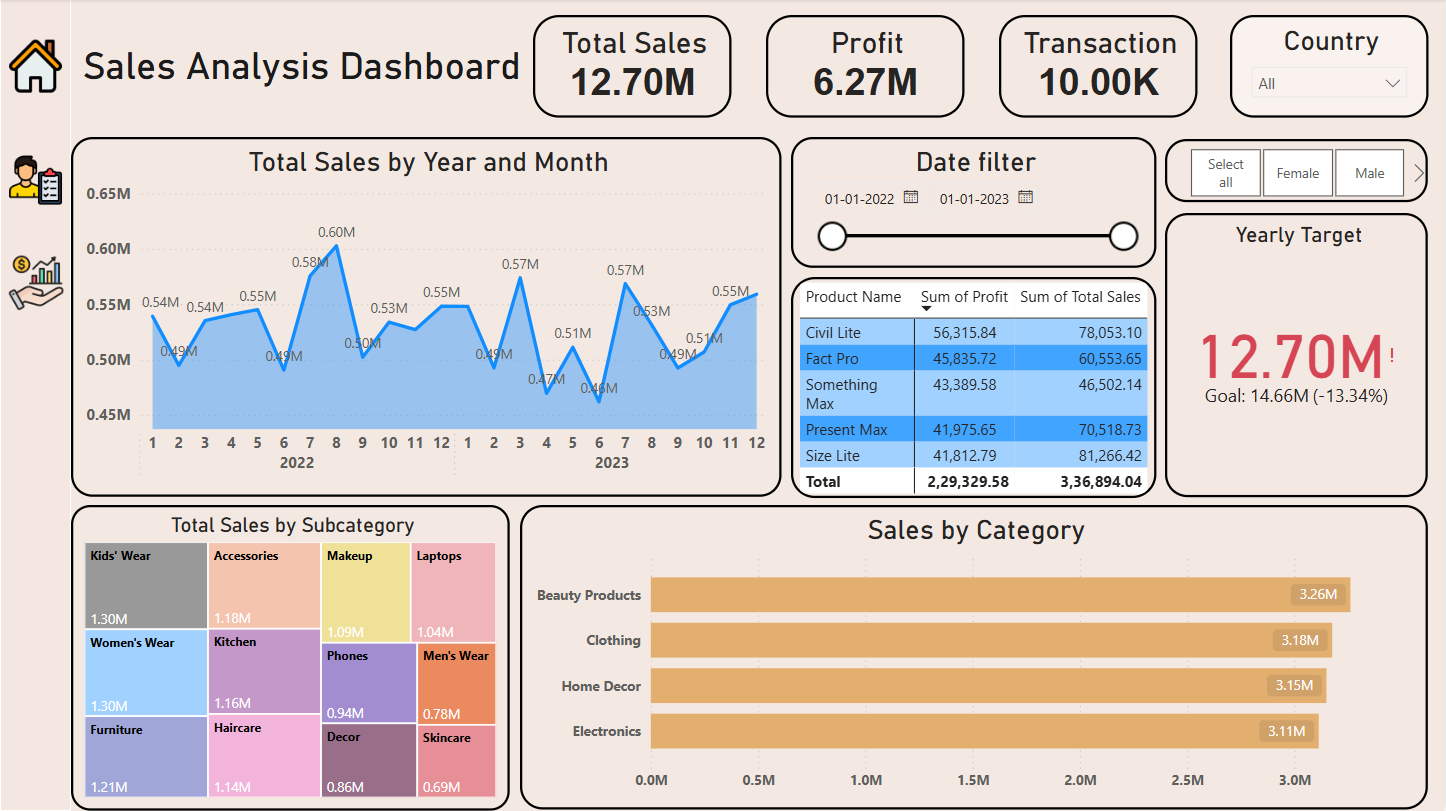

The dashboard page shown, as its layout file describes it:
{"tool":"powerbi","page":{"name":"Sales Overview","canvas":[1280,720],"ordinal":0},"visuals":[{"type":"shape","box":[0,0,63.2,719.8],"z":0},{"type":"image","box":[0,31.1,63.2,57.4],"z":1000},{"type":"image","box":[0,221.8,63.2,60.3],"z":2000},{"type":"image","box":[0,132.3,63.2,57.4],"z":3000},{"type":"textbox","box":[67.1,36,400.7,44.7],"z":4000},{"type":"card","title":"Total Sales","fields":{"Values":["MeasureTable.Total Sales"]},"box":[472.7,14.6,176,91.4],"z":5000},{"type":"stackedAreaChart","title":"Total Sales by Year and Month","fields":{"Category":["SalesTransaction.Year.Variation.Date Hierarchy.Year","SalesTransaction.Month"],"Y":["Sum(SalesTransaction.Total Sales)"]},"box":[63.2,122.6,630.3,319],"z":6000},{"type":"slicer","title":"Country","fields":{"Values":["CustomerDetails.Country"]},"box":[1090.3,14.6,176,91.4],"z":7000},{"type":"slicer","title":"Date filter","fields":{"Values":["SalesTransaction.Year"]},"box":[701.3,122.6,323.9,115.7],"z":8000},{"type":"treemap","title":"Total Sales by Subcategory","fields":{"Values":["Sum(SalesTransaction.Total Sales)"],"Group":["ProductDetails.Subcategory"]},"box":[63.2,448.4,389.1,271.4],"z":9000},{"type":"pivotTable","fields":{"Rows":["ProductDetails.Product Name"],"Values":["Sum(SalesTransaction.Profit)","Sum(SalesTransaction.Total Sales)"]},"box":[701.3,246.1,323.9,195.5],"z":10000},{"type":"card","title":"Profit","fields":{"Values":["Sum(SalesTransaction.Profit)"]},"box":[678.9,14.6,176,91.4],"z":11000},{"type":"card","title":"Transaction","fields":{"Values":["Count(SalesTransaction.Transaction ID)"]},"box":[886.1,14.6,176,91.4],"z":12000},{"type":"clusteredBarChart","title":"Sales by Category","fields":{"Category":["ProductDetails.Category"],"Y":["Sum(SalesTransaction.Total Sales)"]},"box":[461,448.4,805.3,270.4],"z":13000},{"type":"slicer","fields":{"Values":["CustomerDetails.Gender"]},"box":[1032.9,124.5,233.4,56.4],"z":14000},{"type":"kpi","title":"Yearly Target","fields":{"Goal":["Sum(SalesPerson.Yearly Target)"],"Indicator":["Sum(SalesPerson.Yearly sales Achieved)"],"TrendLine":["SalesTransaction.Year"]},"box":[1033,189.8,233.2,251.8],"z":15000}]}

Visuals, with their boxes in screenshot pixels (x1, y1, x2, y2), scaled from the page's 1280x720 canvas onto the 1446x811 screenshot:
shape: {"x1": 0, "y1": 0, "x2": 71, "y2": 810}
image: {"x1": 0, "y1": 35, "x2": 71, "y2": 100}
image: {"x1": 0, "y1": 250, "x2": 71, "y2": 318}
image: {"x1": 0, "y1": 149, "x2": 71, "y2": 214}
textbox: {"x1": 76, "y1": 41, "x2": 528, "y2": 91}
"Total Sales" card: {"x1": 534, "y1": 16, "x2": 733, "y2": 119}
"Total Sales by Year and Month" stackedAreaChart: {"x1": 71, "y1": 138, "x2": 783, "y2": 497}
"Country" slicer: {"x1": 1232, "y1": 16, "x2": 1431, "y2": 119}
"Date filter" slicer: {"x1": 792, "y1": 138, "x2": 1158, "y2": 268}
"Total Sales by Subcategory" treemap: {"x1": 71, "y1": 505, "x2": 511, "y2": 810}
pivotTable - ProductDetails.Product Name x Sum(SalesTransaction.Profit): {"x1": 792, "y1": 277, "x2": 1158, "y2": 497}
"Profit" card: {"x1": 767, "y1": 16, "x2": 966, "y2": 119}
"Transaction" card: {"x1": 1001, "y1": 16, "x2": 1200, "y2": 119}
"Sales by Category" clusteredBarChart: {"x1": 521, "y1": 505, "x2": 1431, "y2": 810}
slicer - CustomerDetails.Gender: {"x1": 1167, "y1": 140, "x2": 1431, "y2": 204}
"Yearly Target" kpi: {"x1": 1167, "y1": 214, "x2": 1430, "y2": 497}
